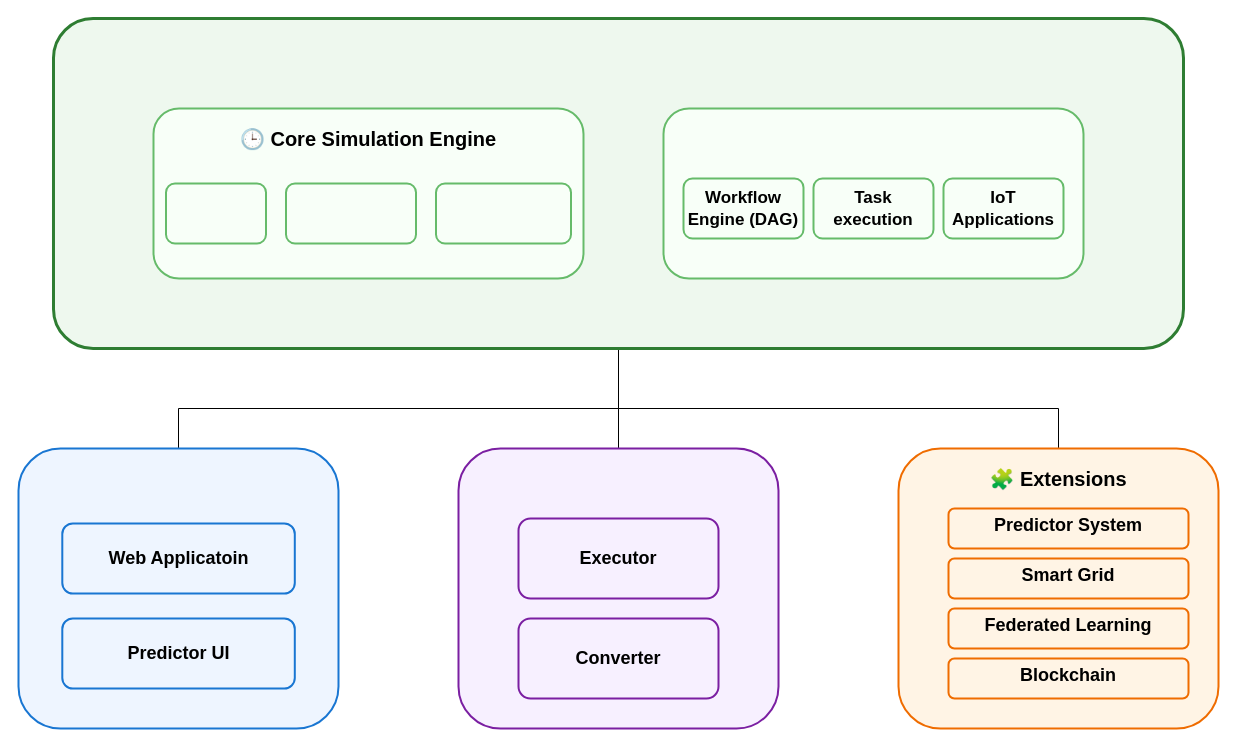
This 1236x747 diagram has some shape labels left out. Each missing label, with the box of its shape:
DES: (164, 182, 266, 244)
DISSECT-CF-Fog Simulator: (52, 16, 1184, 350)
Event Queue: (284, 182, 416, 244)
Time management: (434, 182, 572, 244)
⚙️ Execution & Management: (457, 447, 779, 729)
🔀 Workflow & Scheduling: (662, 107, 1084, 279)
🖥️ Visualization & Interfaces: (17, 447, 339, 729)
